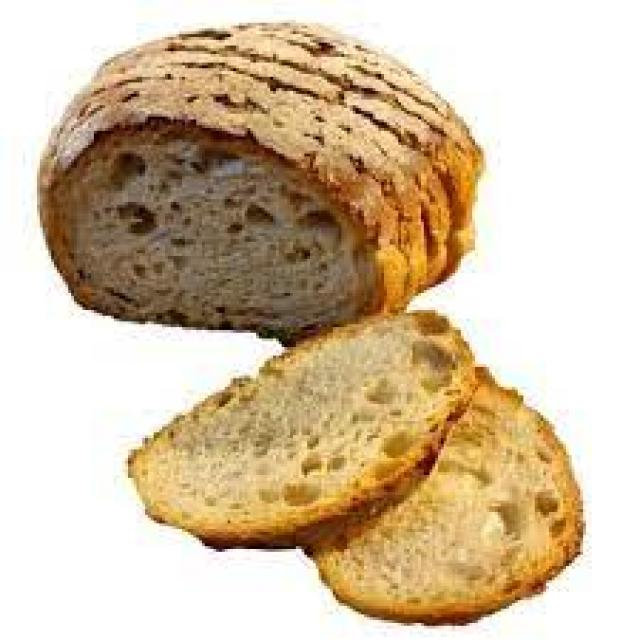Maltese-Bread: (40, 23, 481, 341)
